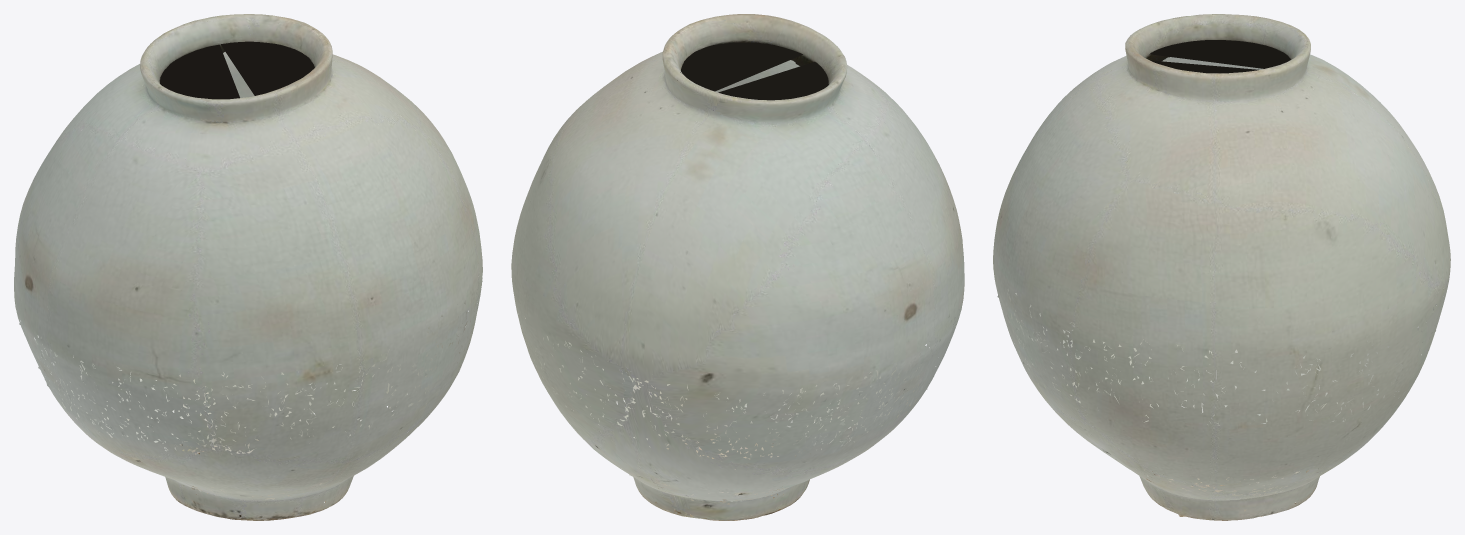
Rendered from jar1983.glb.
The picture shows the model from 3 angles, left to right: view 1: azimuth 30°, elevation 25°; view 2: azimuth 150°, elevation 25°; view 3: azimuth 270°, elevation 25°; orthographic projection. The views are drawn at different scales.
Parts seen in each view (by area): view 1: Object_3, Object_5, Object_4; view 2: Object_3, Object_5, Object_4; view 3: Object_3, Object_4, Object_5.
Part boxes in pixels (left/top/right/bottom): Object_3: left=14, top=14, right=482, bottom=520; Object_5: left=160, top=41, right=314, bottom=99; Object_4: left=15, top=276, right=482, bottom=517; Object_3: left=511, top=14, right=964, bottom=520; Object_5: left=677, top=42, right=828, bottom=100; Object_4: left=513, top=281, right=963, bottom=520; Object_3: left=993, top=14, right=1450, bottom=520; Object_4: left=994, top=265, right=1445, bottom=520; Object_5: left=1149, top=40, right=1290, bottom=73.
Bounding box in the file's own units: 19.16 × 20.48 × 19.4.
Materials: 2 (1 with a texture image).
